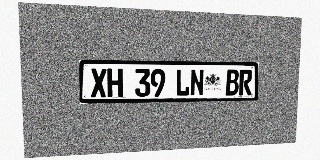3: (135, 69, 150, 97)
9: (151, 69, 165, 97)
B: (226, 69, 239, 96)
H: (107, 68, 123, 97)
L: (176, 69, 190, 96)
N: (190, 69, 204, 96)
R: (239, 69, 252, 95)
X: (90, 68, 107, 97)
